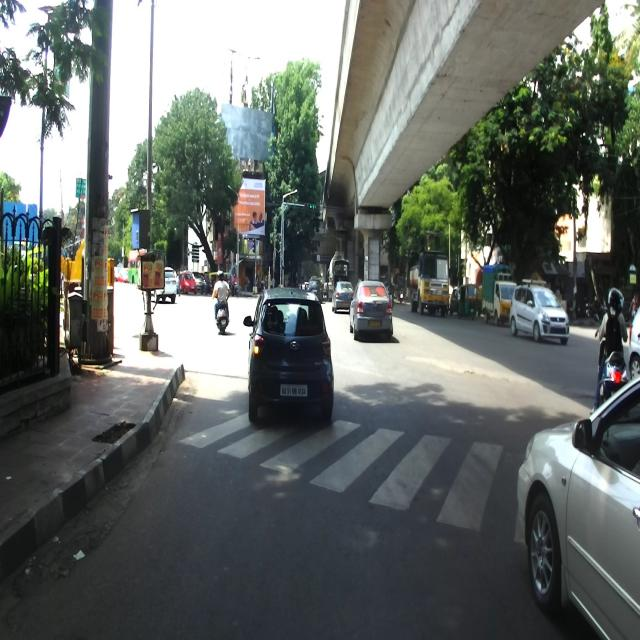car: (243, 288, 334, 424), (508, 279, 569, 345)
scooter: (594, 312, 631, 407)
